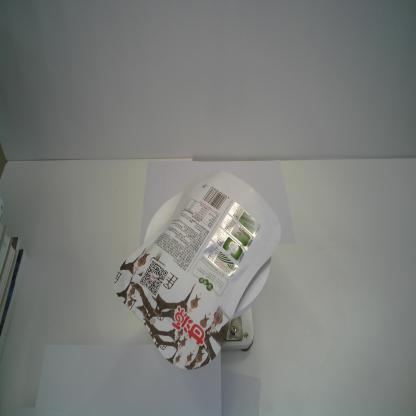Dried Fruit: (109, 169, 283, 371)
